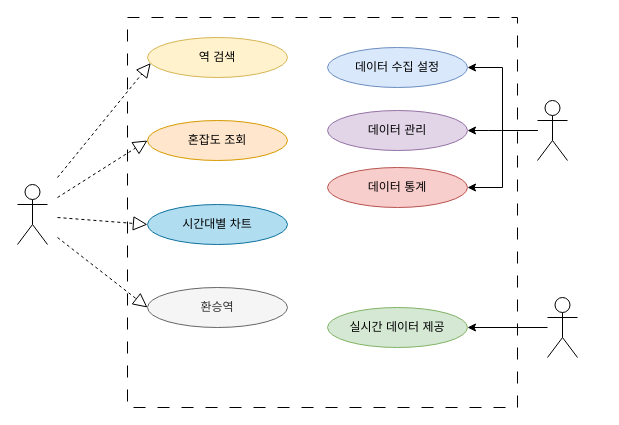
The diagram is 619 pixels wide and 425 high, and some of its shapes have lost their labels. The centre of each missing label's shape, as x and y in pixels:
"공공데이터 API" goes at [562,327].
"관리자" goes at [552,130].
"시민" goes at [32,214].
